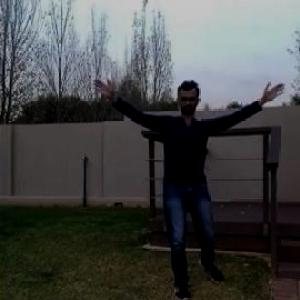takeoff: (94, 85, 286, 299)
